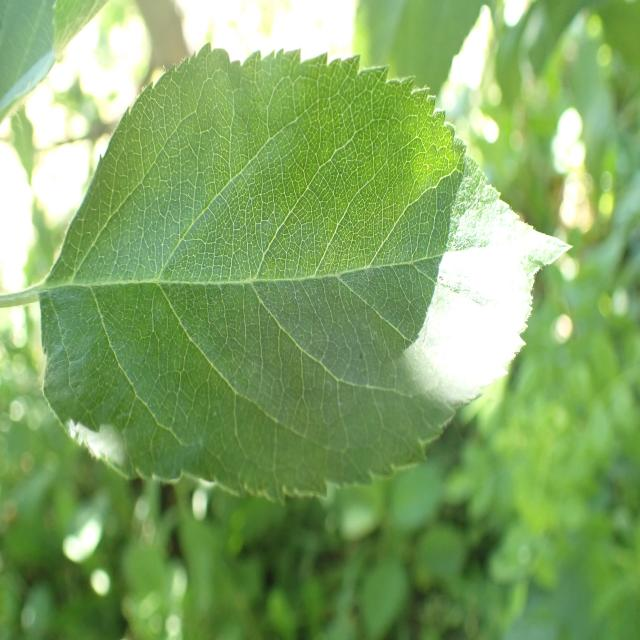healthy: (39, 42, 574, 502), (0, 0, 109, 124)
